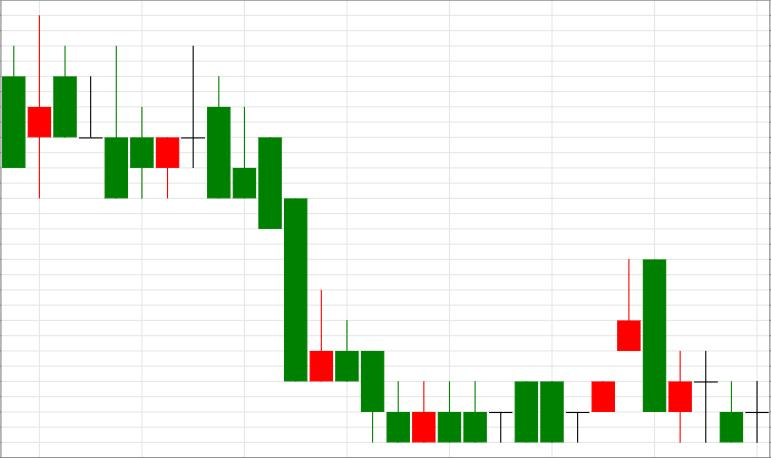inverse_hammer_rise: (181, 47, 332, 381)
